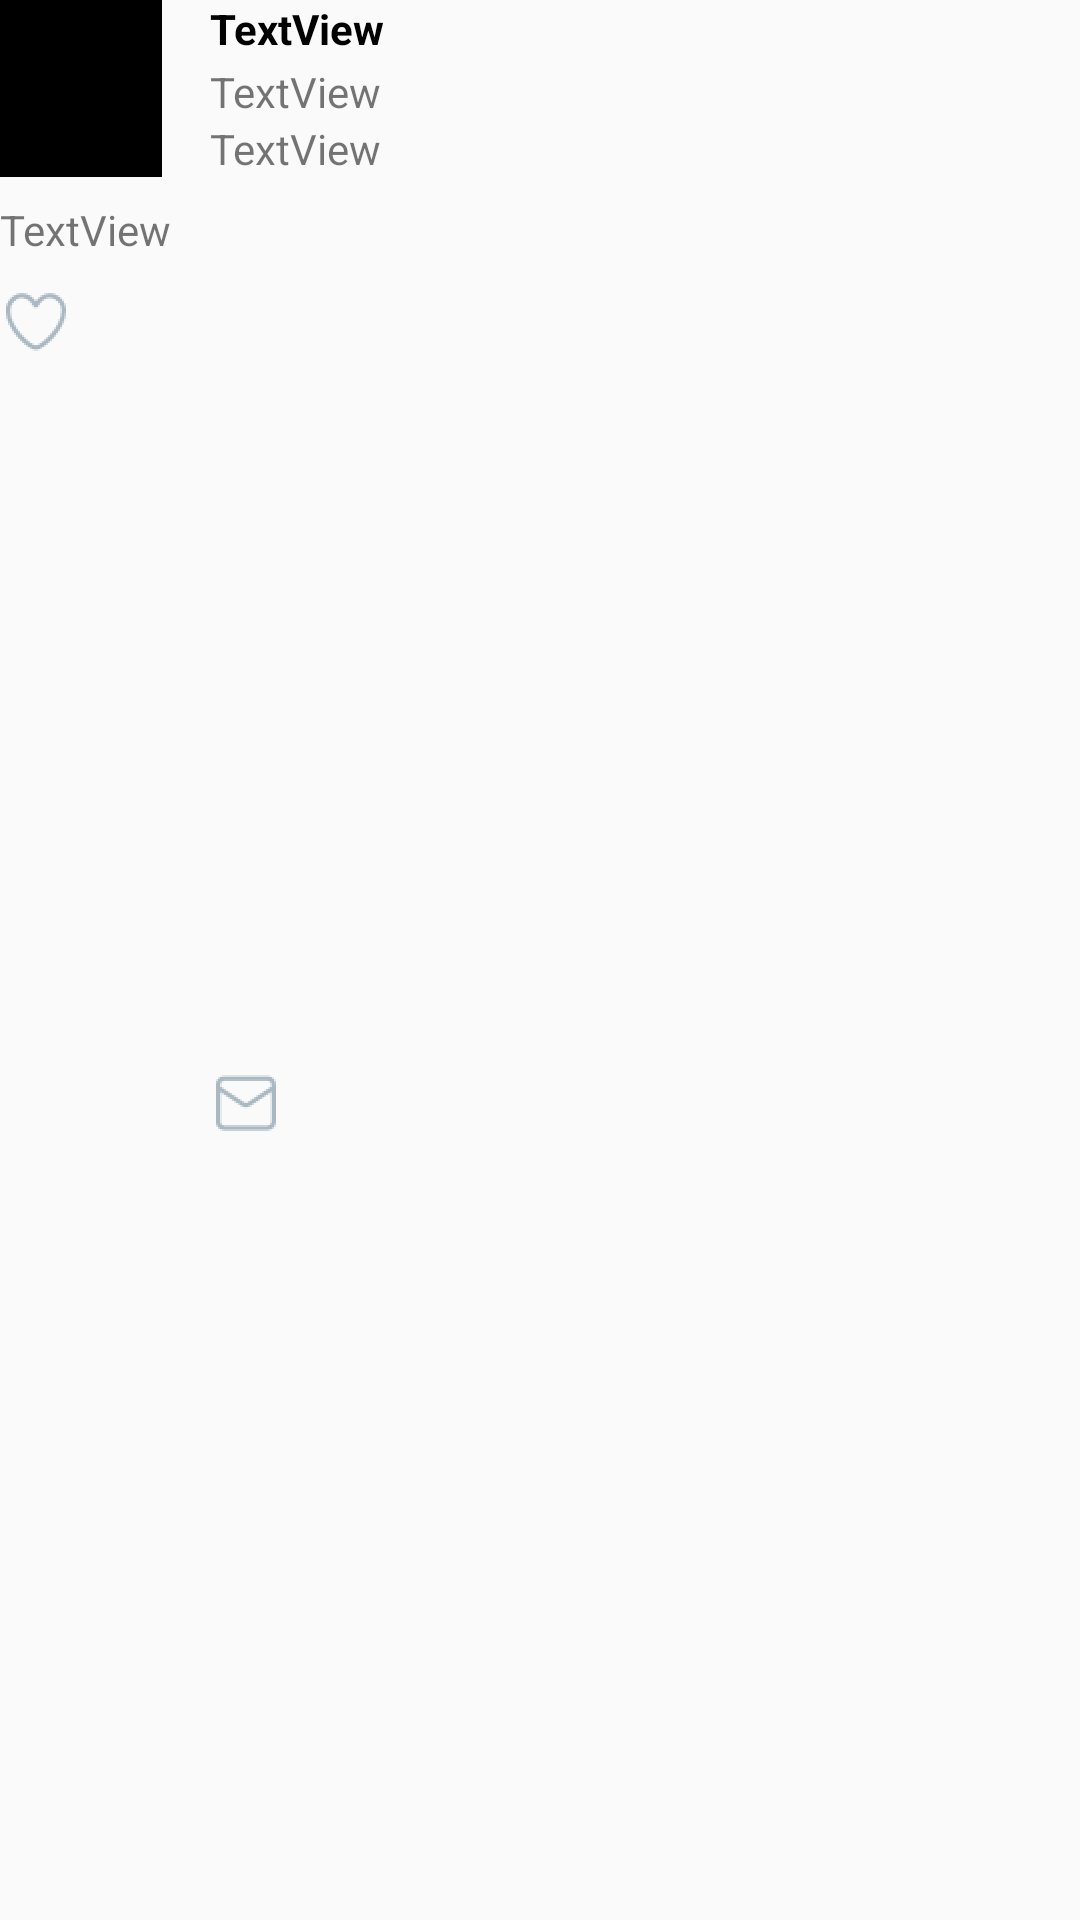

Icon click points for this 1080 x 1920 phone screenshot, format [x,y]:
like: [36,322]
